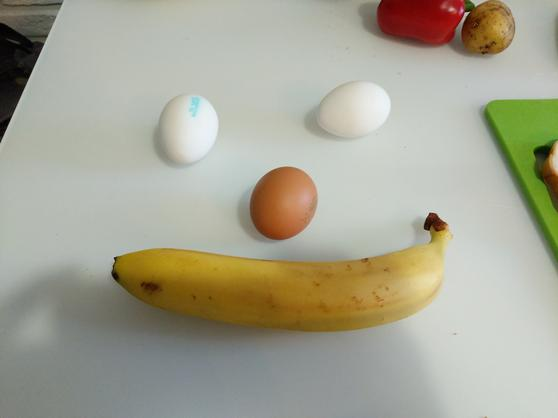banana: (110, 212, 452, 333)
egg: (247, 165, 320, 240), (153, 90, 221, 168), (317, 77, 393, 141)
pepper: (376, 1, 470, 47)
potato: (462, 1, 517, 56)
